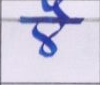ai_matra: (42, 0, 72, 17)
